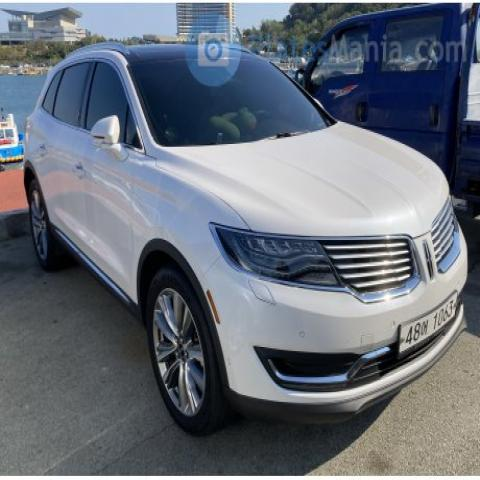LP: (392, 281, 468, 360)
